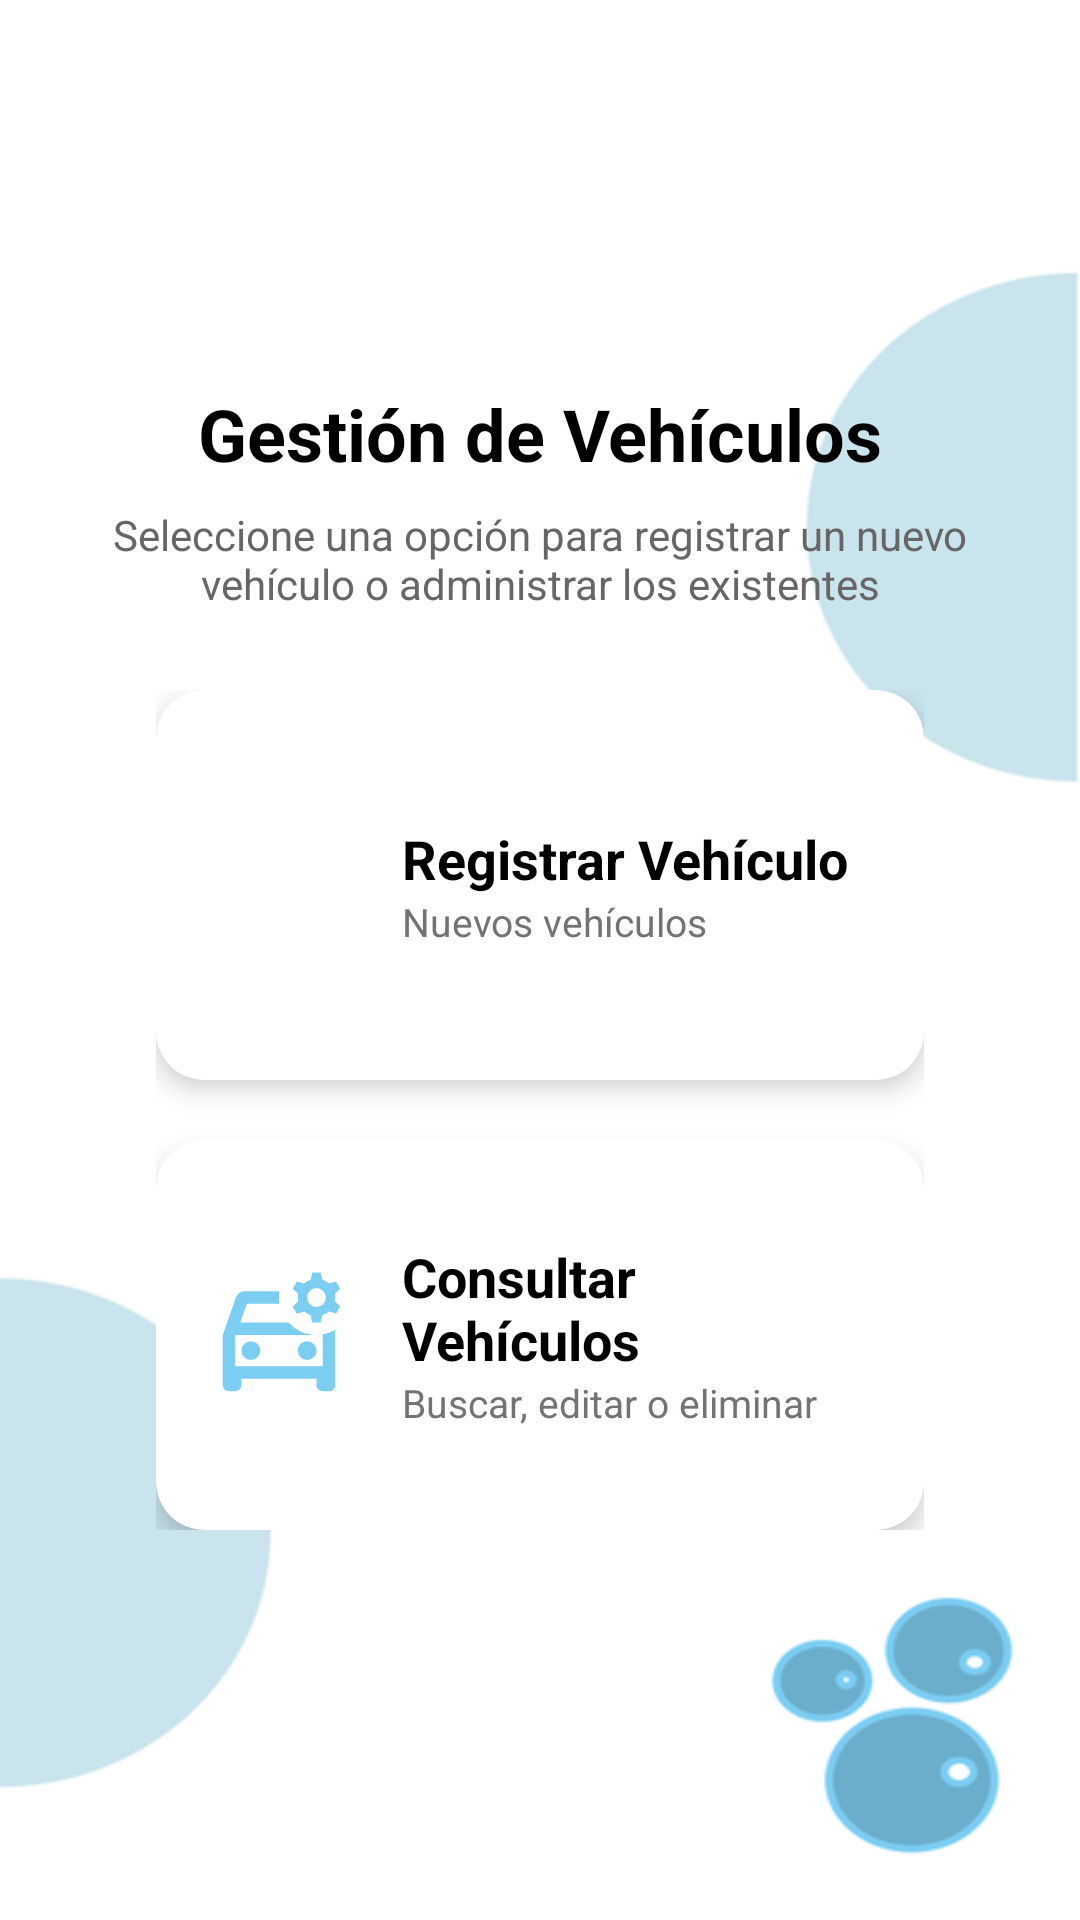

Locate icon controls on the screen. Image size 1080px×1920px, boxes as {"x1": x1, "y1": y1, "x2": x2, "y2": y2}.
consultar vehi: {"x1": 222, "y1": 1272, "x2": 340, "y2": 1392}
